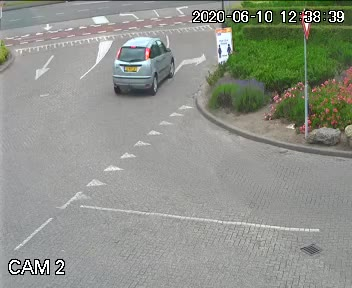car: (112, 34, 172, 102)
